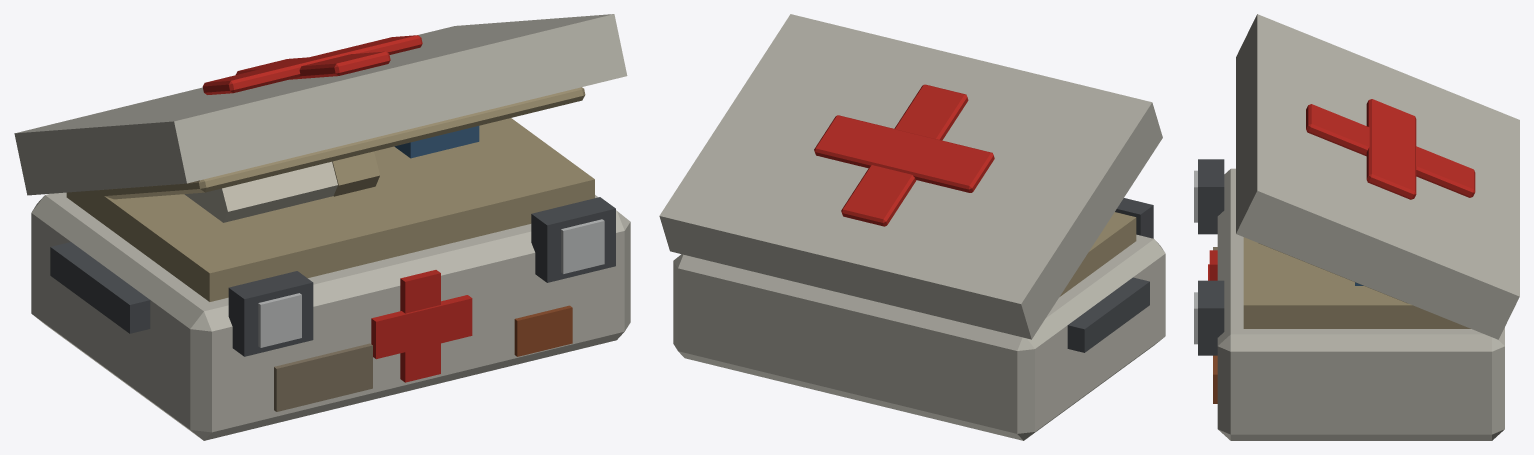
File: item_medkit.fbx
3 views of the same model, side by side, from view 1: azimuth 30°, elevation 25°; view 2: azimuth 150°, elevation 25°; view 3: azimuth 270°, elevation 25° (orthographic). The views are drawn at different scales.
Parts seen in each view (by area): view 1: item_medkit; view 2: item_medkit; view 3: item_medkit.
Boxes of the visible parts, <box> form: item_medkit: <box>14,14,630,440</box>; item_medkit: <box>659,14,1165,440</box>; item_medkit: <box>1194,14,1519,440</box>.
Size of the model in its own units: 0.335 by 0.216 by 0.2493.
